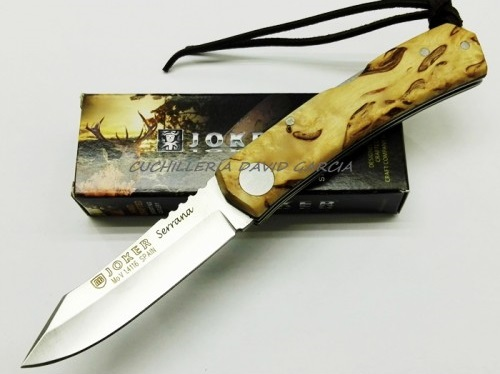knife: (15, 158, 260, 374)
